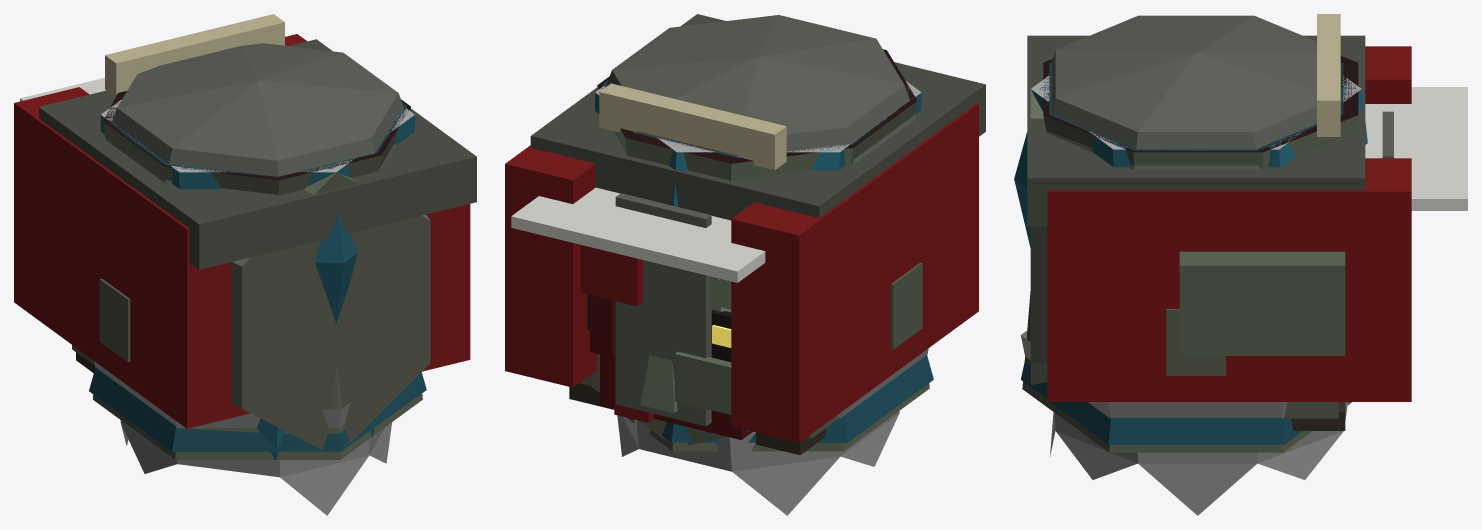
The model's file is fat.glb.
3 renders of one model, left to right at view 1: azimuth 30°, elevation 25°; view 2: azimuth 150°, elevation 25°; view 3: azimuth 270°, elevation 25°, orthographic. The views are drawn at different scales.
Parts seen in each view (by area): view 1: torso, footR, head, hips, headJaw, shinR, neck, uArmR, thighR; view 2: torso, head, hips, headJaw, shinR, fArmR, neck, handR, uArmR, thighR, footR; view 3: torso, head, handR, hips, headJaw, shinR, uArmR, footR, neck, thighR.
Boxes of the visible parts, x1,y1,x2,y2 form: torso: (14, 34, 470, 515); footR: (231, 172, 430, 449); head: (20, 43, 403, 362); hips: (39, 39, 476, 460); headJaw: (102, 14, 410, 195); shinR: (89, 110, 426, 452); neck: (93, 363, 422, 459); uArmR: (94, 99, 414, 427); thighR: (100, 115, 414, 189); torso: (505, 103, 978, 515); head: (511, 15, 922, 412); hips: (530, 14, 985, 220); headJaw: (597, 49, 917, 422); shinR: (662, 93, 933, 442); fArmR: (600, 355, 752, 439); neck: (627, 383, 929, 451); handR: (569, 375, 837, 454); uArmR: (595, 81, 928, 417); thighR: (590, 92, 921, 357); footR: (589, 354, 750, 445); torso: (1047, 46, 1411, 515); head: (1047, 15, 1467, 375); handR: (1179, 251, 1345, 430); hips: (1027, 35, 1365, 414); headJaw: (1043, 14, 1358, 168); shinR: (1014, 82, 1352, 444); uArmR: (1020, 75, 1361, 418); footR: (1030, 89, 1047, 384); neck: (1022, 291, 1351, 452); thighR: (1031, 89, 1367, 167).
Bounding box in the file's own units: 1.15 × 1.35 × 1.37.
